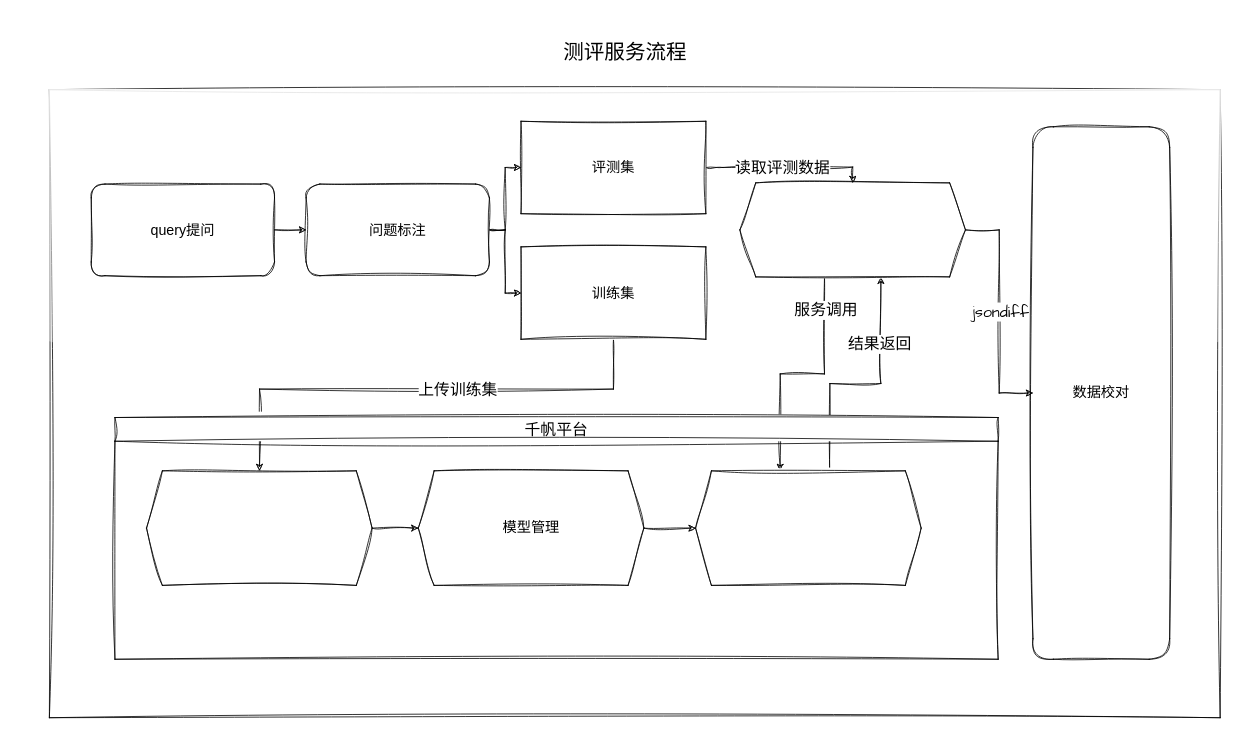
Some shapes in this 1250 by 747 pixel diagram are drawn without their labels. The shapes that lost their labels are listed below. From the top down, each one's centre as x and y in pixels, then its label:
At (x=852, y=229): "模型评测服务".
At (x=259, y=527): "训练集管理".
At (x=808, y=527): "服务发布".
